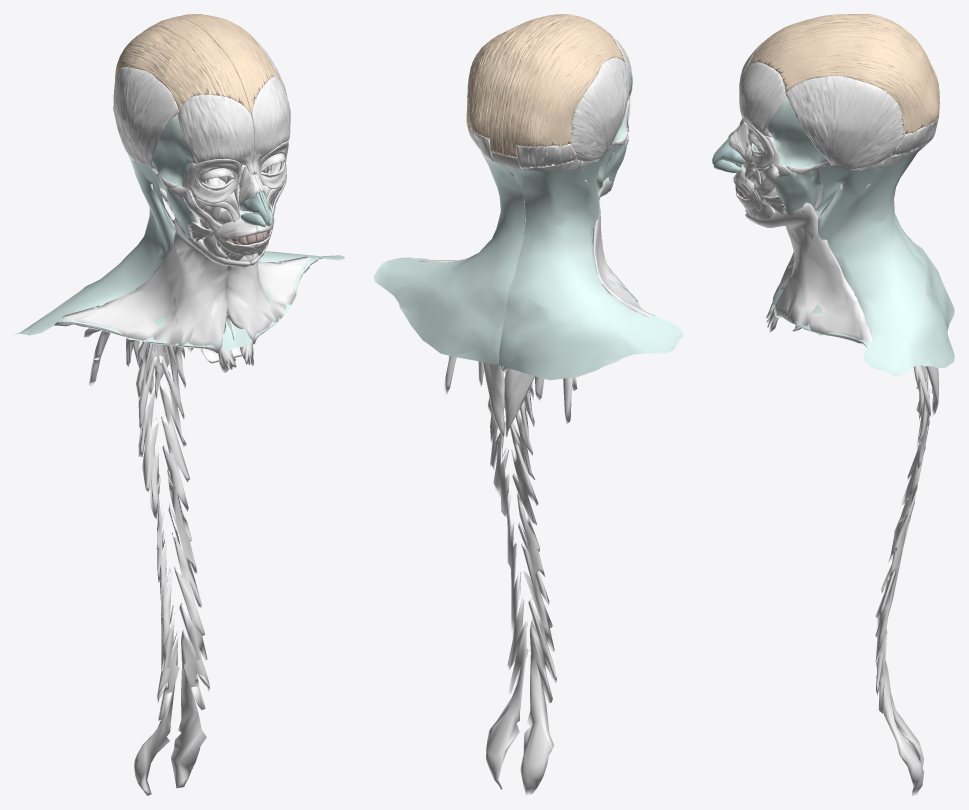
Rendered from head-jaw.glb.
3 views of the same model, side by side, from view 1: azimuth 30°, elevation 25°; view 2: azimuth 150°, elevation 25°; view 3: azimuth 270°, elevation 25° (orthographic). The views are drawn at different scales.
Parts seen in each view (by area): view 1: Platysma.r, Rotatores.l, Epicranial aponeurosis.r, Rotatores.r, Superficial investing cervical fascia.r, Platysma.l, Temporoparietalis muscle.r, Frontalis muscle.r, Epicranial aponeurosis.l, Frontalis muscle.l, Superficial layer of temporal fascia.r, Orbital part of orbicularis oculi.r (+4 smaller); view 2: Superficial investing cervical fascia.r, Superficial investing cervical fascia.l, Epicranial aponeurosis.r, Rotatores.r, Rotatores.l, Epicranial aponeurosis.l, Temporoparietalis muscle.r, Platysma.r, Occipitalis muscle.r, Splenius colli muscle.r, Splenius colli muscle.l, Occipital bone; view 3: Superficial investing cervical fascia.l, Epicranial aponeurosis.l, Temporoparietalis muscle.l, Platysma.l, Rotatores.l, Frontalis muscle.l, Superficial layer of temporal fascia.l, Epicranial aponeurosis.r, Rotatores.r, Masseteric fascia.l, Superficial investing cervical fascia.r, Occipitalis muscle.l (+3 smaller).
Boxes of the visible parts, left/top/right/bottom form: Platysma.r: left=58, top=217, right=250, bottom=353; Rotatores.l: left=158, top=345, right=209, bottom=788; Epicranial aponeurosis.r: left=113, top=17, right=251, bottom=114; Rotatores.r: left=134, top=341, right=179, bottom=795; Superficial investing cervical fascia.r: left=15, top=154, right=235, bottom=350; Platysma.l: left=225, top=241, right=317, bottom=344; Temporoparietalis muscle.r: left=114, top=67, right=178, bottom=169; Frontalis muscle.r: left=178, top=94, right=254, bottom=164; Epicranial aponeurosis.l: left=175, top=14, right=280, bottom=114; Frontalis muscle.l: left=251, top=76, right=290, bottom=160; Superficial layer of temporal fascia.r: left=151, top=114, right=193, bottom=186; Orbital part of orbicularis oculi.r: left=188, top=159, right=241, bottom=203; Superficial investing cervical fascia.r: left=499, top=144, right=683, bottom=380; Superficial investing cervical fascia.l: left=373, top=151, right=524, bottom=364; Epicranial aponeurosis.r: left=502, top=16, right=625, bottom=158; Rotatores.r: left=510, top=383, right=556, bottom=795; Rotatores.l: left=486, top=372, right=528, bottom=789; Epicranial aponeurosis.l: left=466, top=14, right=576, bottom=155; Temporoparietalis muscle.r: left=571, top=57, right=629, bottom=161; Platysma.r: left=592, top=177, right=651, bottom=317; Occipitalis muscle.r: left=516, top=143, right=576, bottom=168; Splenius colli muscle.r: left=504, top=368, right=534, bottom=437; Splenius colli muscle.l: left=483, top=362, right=504, bottom=437; Occipital bone: left=485, top=152, right=579, bottom=171; Superficial investing cervical fascia.l: left=772, top=143, right=954, bottom=376; Epicranial aponeurosis.l: left=746, top=21, right=939, bottom=135; Temporoparietalis muscle.l: left=786, top=75, right=903, bottom=169; Platysma.l: left=745, top=202, right=873, bottom=347; Rotatores.l: left=875, top=366, right=929, bottom=795; Frontalis muscle.l: left=739, top=62, right=786, bottom=134; Superficial layer of temporal fascia.l: left=767, top=97, right=827, bottom=168; Epicranial aponeurosis.r: left=745, top=14, right=939, bottom=96; Rotatores.r: left=875, top=385, right=929, bottom=767; Masseteric fascia.l: left=774, top=167, right=821, bottom=215; Superficial investing cervical fascia.r: left=772, top=200, right=954, bottom=329; Occipitalis muscle.l: left=891, top=114, right=939, bottom=156.
Bounding box in the file's own units: 0.3486 × 0.8224 × 0.2355.
